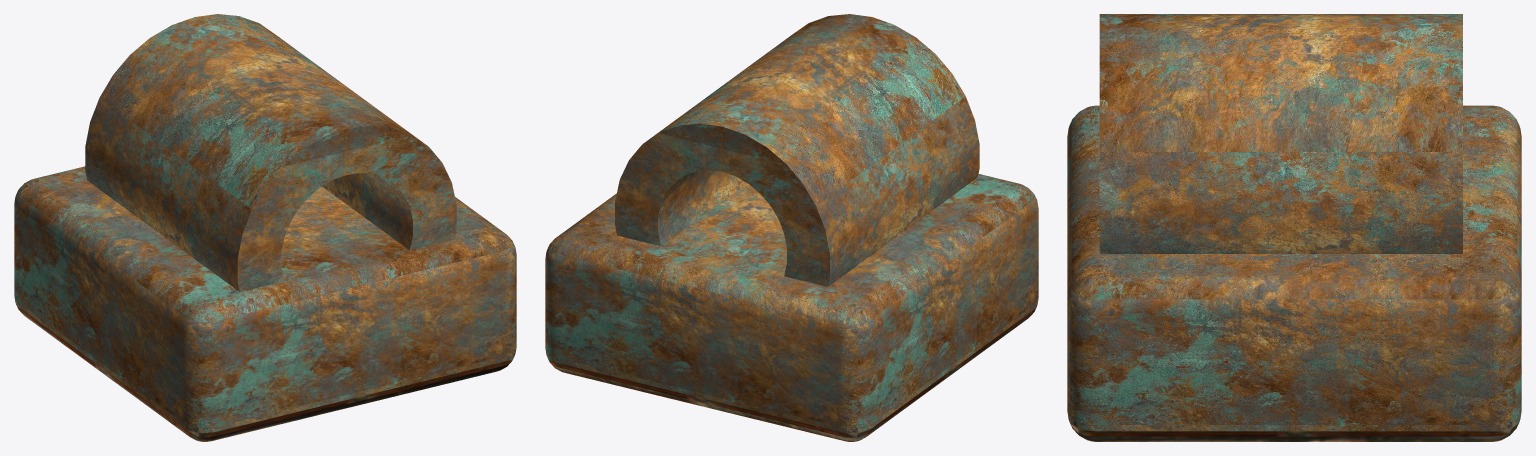
The model's file is 平安长印.FBX.
3 views of the same model, side by side, from view 1: azimuth 30°, elevation 25°; view 2: azimuth 150°, elevation 25°; view 3: azimuth 270°, elevation 25° (orthographic). The views are drawn at different scales.
Parts seen in each view (by area): view 1: ChamferBox001, 对象001; view 2: ChamferBox001, 对象001; view 3: ChamferBox001, 对象001.
Part boxes in pixels (box(x1,y1,x2,y2)): ChamferBox001: box(14, 14, 516, 432); 对象001: box(16, 304, 514, 441); ChamferBox001: box(545, 14, 1038, 433); 对象001: box(547, 307, 1036, 441); ChamferBox001: box(1067, 14, 1521, 431); 对象001: box(1069, 422, 1519, 441).
Size of the model in its own units: 15 by 11.95 by 15.
2 materials, 2 textured.
